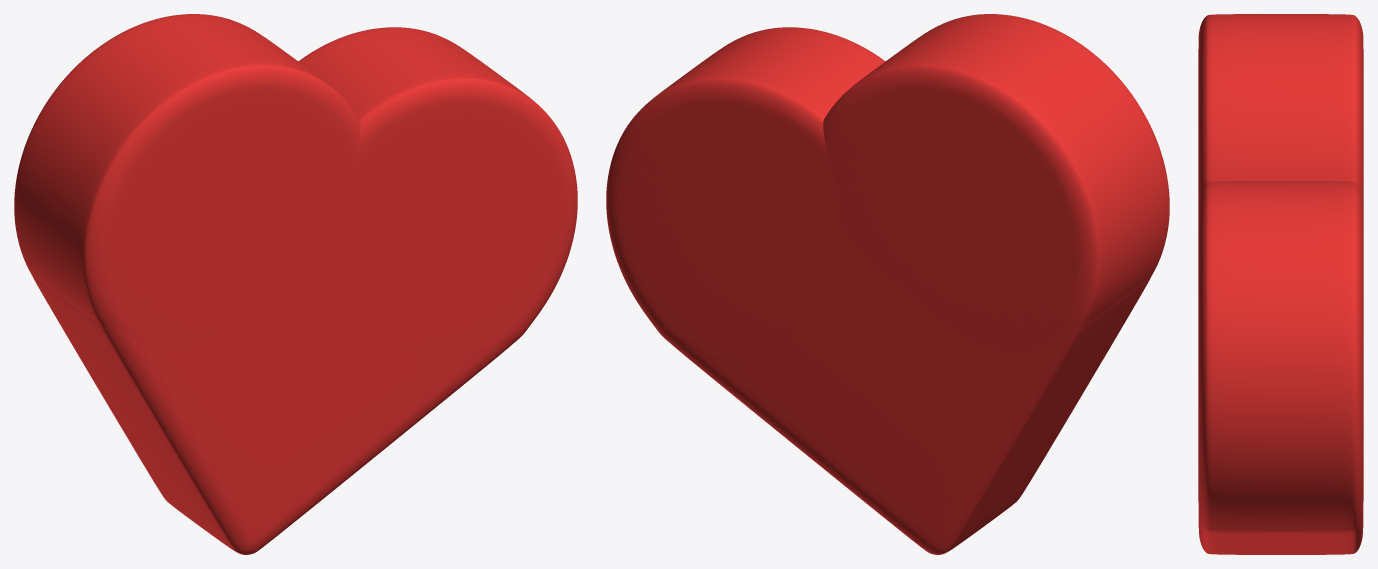
The model's file is HeartDEMO.fbx.
The picture shows the model from 3 angles, left to right: view 1: azimuth 30°, elevation 25°; view 2: azimuth 150°, elevation 25°; view 3: azimuth 270°, elevation 25°; orthographic projection. The views are drawn at different scales.
Parts seen in each view (by area): view 1: Cylinder.001; view 2: Cylinder.001; view 3: Cylinder.001.
Boxes of the visible parts, box(x1,y1,x2,y2) form: Cylinder.001: box(14, 14, 577, 554); Cylinder.001: box(606, 14, 1169, 554); Cylinder.001: box(1198, 14, 1363, 554).
Size of the model in its own units: 126 by 120 by 35.02.
